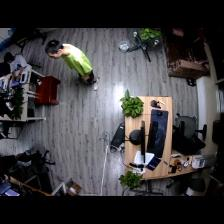normal: (43, 39, 101, 93), (3, 51, 32, 82)
